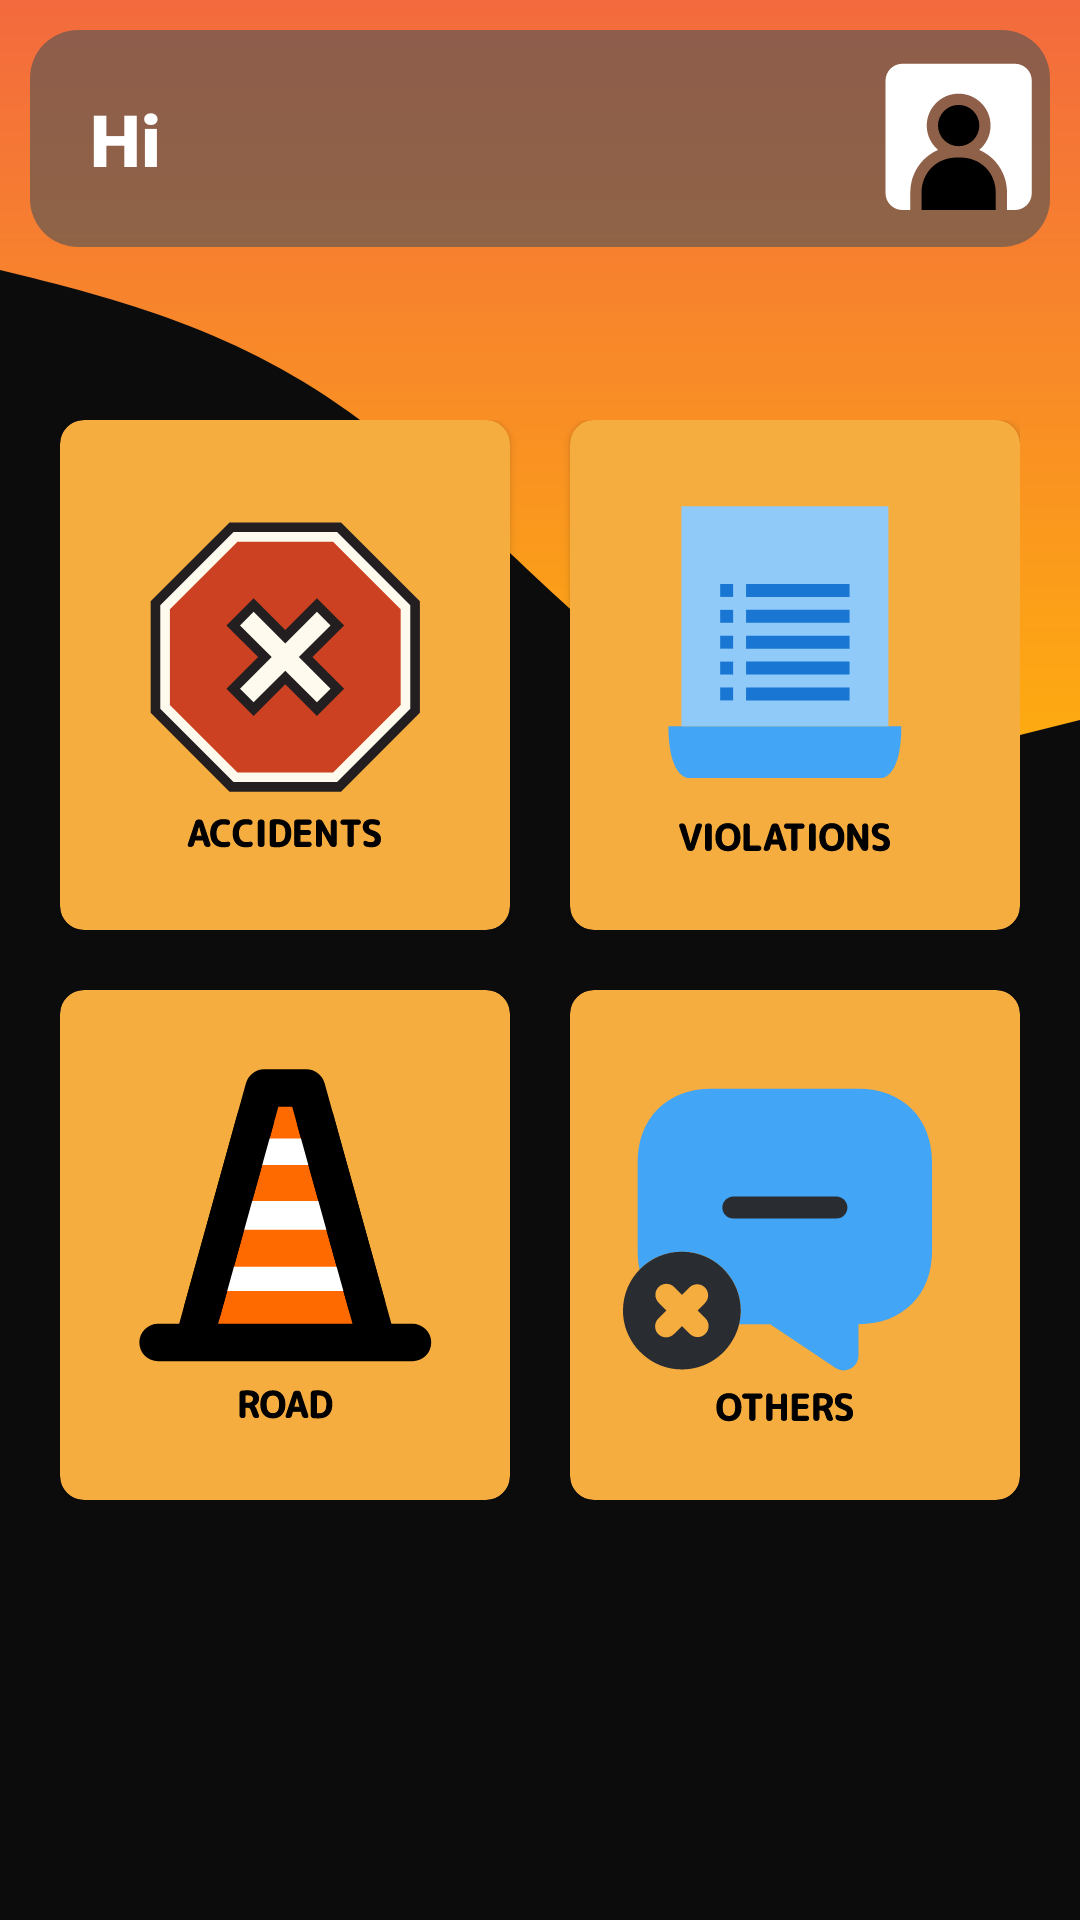

Point at icon controls on the screen. Image size 1080×1920, points as [x,y].
profile: [958,136]
